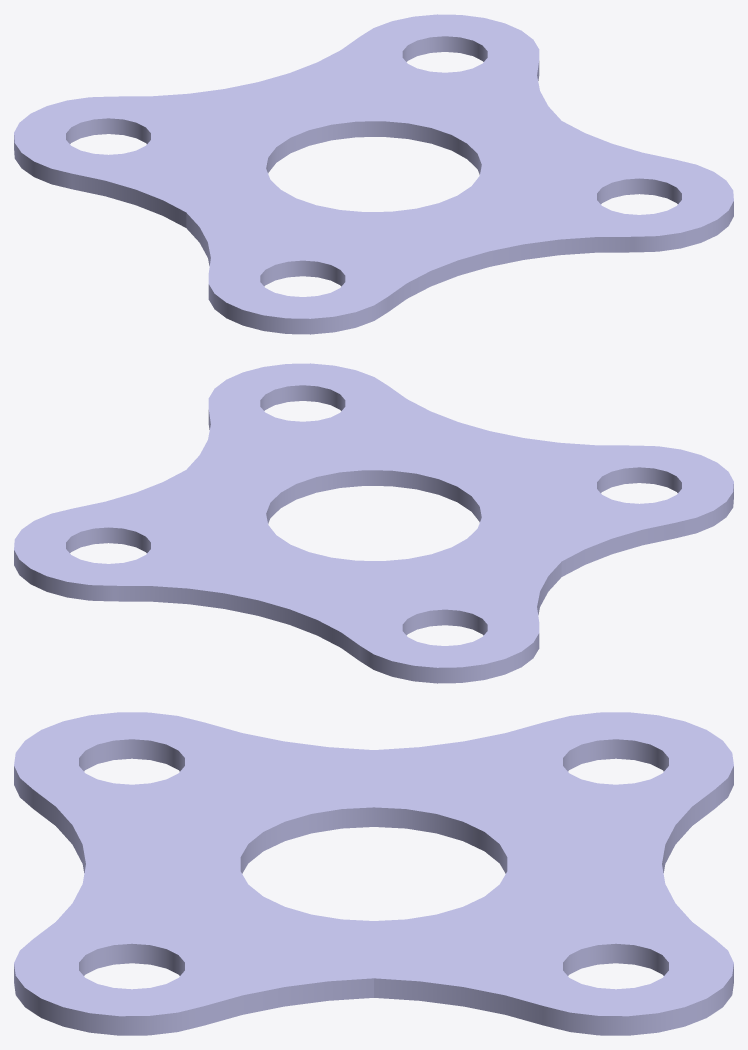
Rendered from 3 Anchor Plate.fbx.
The picture shows the model from 3 angles, top to bottom: view 1: azimuth 30°, elevation 25°; view 2: azimuth 150°, elevation 25°; view 3: azimuth 270°, elevation 25°; orthographic projection. The views are drawn at different scales.
Parts seen in each view (by area): view 1: PartBody; view 2: PartBody; view 3: PartBody.
Part boxes in pixels (bbox=[...]): PartBody: bbox=[14, 14, 733, 334]; PartBody: bbox=[14, 363, 733, 683]; PartBody: bbox=[14, 712, 733, 1035].
Size of the model in its own units: 5.27 by 0.1575 by 5.27.
